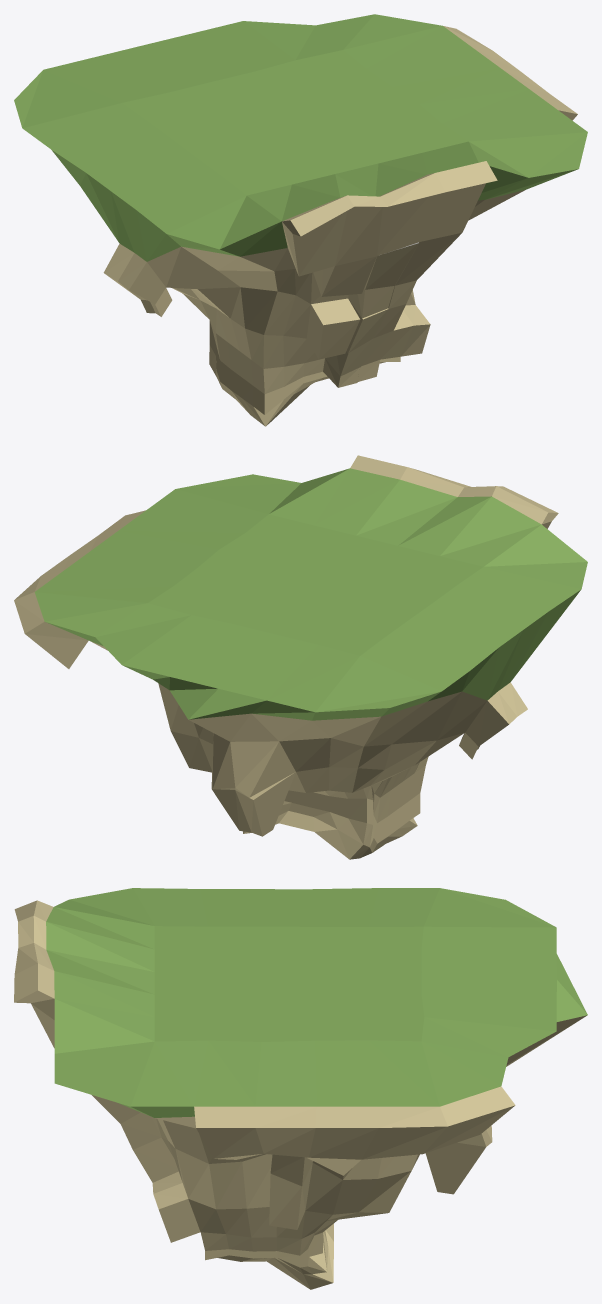
Rendered from Flat_Island_2.fbx.
3 renders of one model, top to bottom at view 1: azimuth 30°, elevation 25°; view 2: azimuth 150°, elevation 25°; view 3: azimuth 270°, elevation 25°, orthographic. The views are drawn at different scales.
Parts seen in each view (by area): view 1: pCube1; view 2: pCube1; view 3: pCube1.
Part boxes in pixels (<box>): pCube1: <box>14,14,587,426</box>; pCube1: <box>14,455,587,859</box>; pCube1: <box>14,888,587,1289</box>.
Size of the model in its own units: 33.94 by 21.6 by 35.8.
